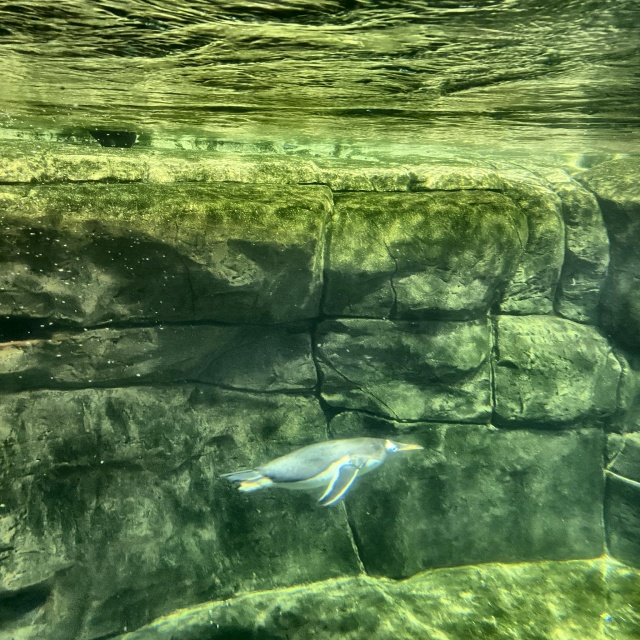penguin: (216, 437, 422, 509)
